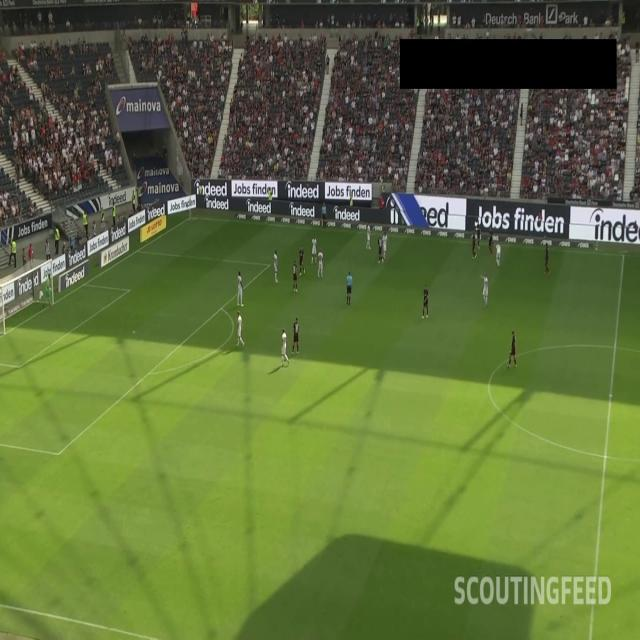player: (280, 326, 290, 367), (509, 328, 517, 369), (293, 314, 301, 355), (481, 270, 489, 310), (235, 310, 244, 345), (236, 268, 244, 306), (375, 235, 384, 263), (494, 240, 502, 270), (543, 242, 550, 276), (423, 284, 430, 318), (382, 230, 389, 262), (292, 259, 298, 293), (273, 250, 279, 284), (45, 280, 52, 309), (318, 249, 324, 281), (366, 222, 372, 251), (312, 235, 318, 262), (475, 222, 481, 248), (471, 230, 476, 258), (300, 243, 304, 276), (489, 229, 494, 250)
